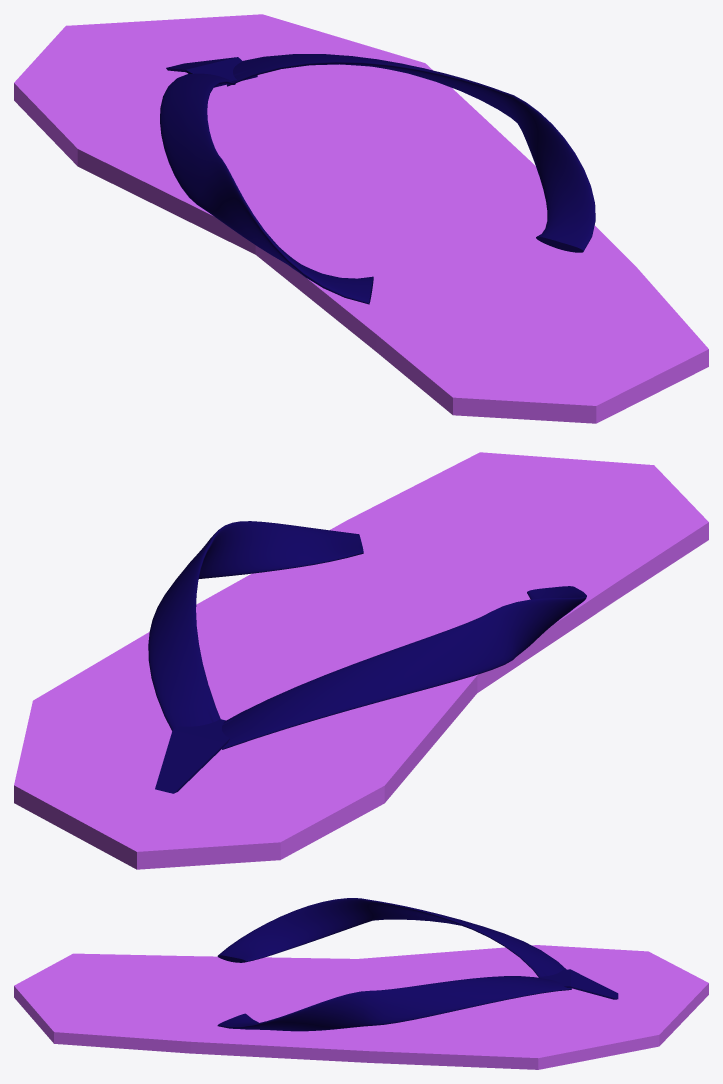
Rendered from tsinelas.glb.
3 views of the same model, one above another, from view 1: azimuth 30°, elevation 25°; view 2: azimuth 150°, elevation 25°; view 3: azimuth 270°, elevation 25° (orthographic). The views are drawn at different scales.
Parts seen in each view (by area): view 1: Plane, BezierCurve, Plane.001; view 2: Plane, BezierCurve, Plane.001; view 3: Plane, BezierCurve, Plane.001.
Part boxes in pixels (box(x1,y1,x2,y2)): Plane: box(14, 14, 708, 423); BezierCurve: box(160, 54, 595, 304); Plane.001: box(166, 57, 257, 87); Plane: box(14, 452, 708, 869); BezierCurve: box(148, 521, 586, 749); Plane.001: box(155, 719, 229, 793); Plane: box(14, 945, 708, 1069); BezierCurve: box(217, 898, 571, 1031); Plane.001: box(540, 969, 618, 999).
Bounding box in the file's own units: 1.62 × 0.4166 × 4.15.
